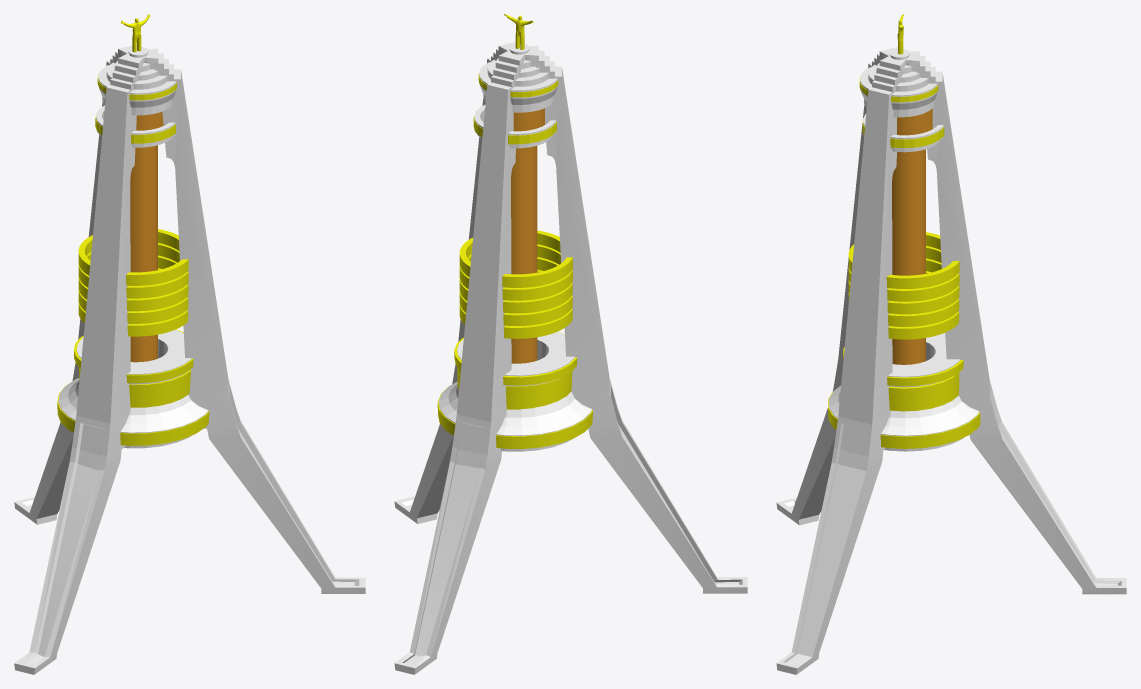
The model's file is bitaraplaykBinasy.FBX.
The picture shows the model from 3 angles, left to right: view 1: azimuth 30°, elevation 25°; view 2: azimuth 150°, elevation 25°; view 3: azimuth 270°, elevation 25°; orthographic projection.
Parts seen in each view (by area): view 1: Line006, Line003, Group001, Cylinder002, Tube005, Tube006, Tube007, Tube008, Tube009; view 2: Line006, Line003, Group001, Cylinder002, Tube005, Tube006, Tube007, Tube008, Tube009; view 3: Line006, Line003, Cylinder002, Group001, Tube005, Tube006, Tube007, Tube008, Tube009.
Part boxes in pixels (box(x1,y1,x2,y2)): Line006: box(14, 44, 365, 674); Line003: box(58, 46, 208, 448); Group001: box(57, 74, 209, 445); Cylinder002: box(130, 111, 163, 362); Tube005: box(78, 229, 188, 285); Tube006: box(78, 243, 188, 298); Tube007: box(78, 255, 188, 311); Tube008: box(78, 268, 188, 323); Tube009: box(78, 302, 188, 336); Line006: box(394, 42, 747, 674); Line003: box(438, 44, 591, 451); Group001: box(437, 74, 592, 448); Cylinder002: box(511, 108, 544, 363); Tube005: box(459, 230, 572, 287); Tube006: box(459, 244, 572, 300); Tube007: box(459, 257, 572, 313); Tube008: box(459, 269, 572, 326); Tube009: box(459, 304, 572, 338); Line006: box(776, 47, 1126, 674); Line003: box(828, 49, 979, 451); Cylinder002: box(892, 108, 932, 364); Group001: box(828, 77, 980, 448); Tube005: box(848, 232, 959, 288); Tube006: box(848, 246, 959, 301); Tube007: box(848, 258, 959, 314); Tube008: box(848, 271, 959, 326); Tube009: box(888, 312, 959, 339).
Bounding box in the file's own units: 13540 × 21019 × 11726.
